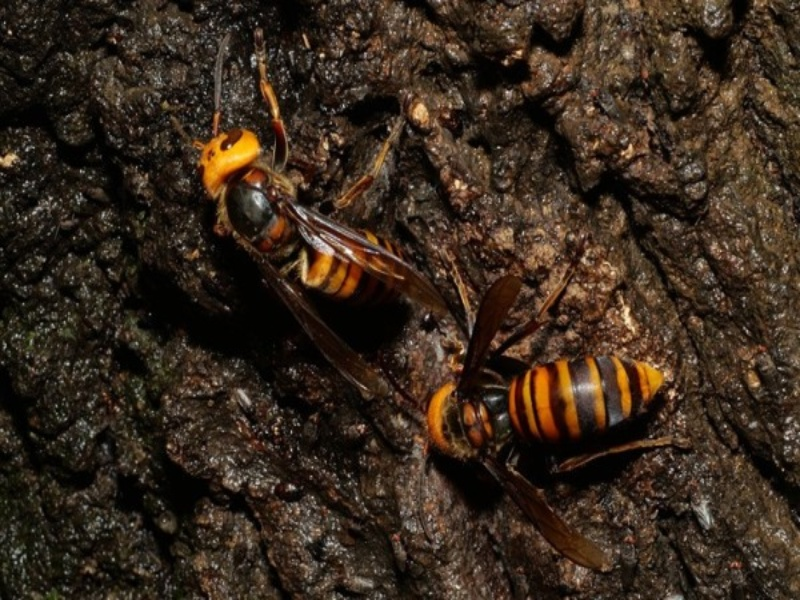asian_giant_hornet: (191, 108, 428, 312), (424, 350, 667, 466)
